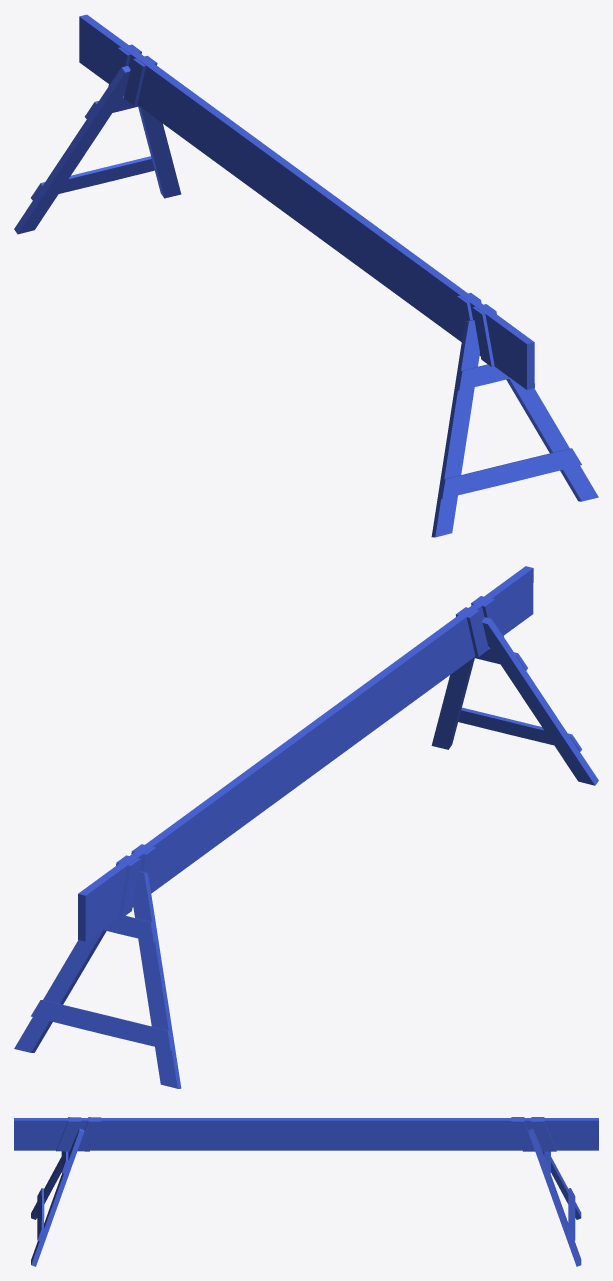
File: policebarricade.glb
The picture shows the model from 3 angles, top to bottom: view 1: azimuth 30°, elevation 25°; view 2: azimuth 150°, elevation 25°; view 3: azimuth 270°, elevation 25°; orthographic projection. The views are drawn at different scales.
Visible parts, largest first — view 1: police-barricade-wooden; view 2: police-barricade-wooden; view 3: police-barricade-wooden.
Boxes of the visible parts, x1,y1,x2,y2 form: police-barricade-wooden: (14,14,598,537); police-barricade-wooden: (14,566,598,1088); police-barricade-wooden: (14,1117,598,1266).
Bounding box in the file's own units: 0.9009 × 0.9797 × 4.27.
